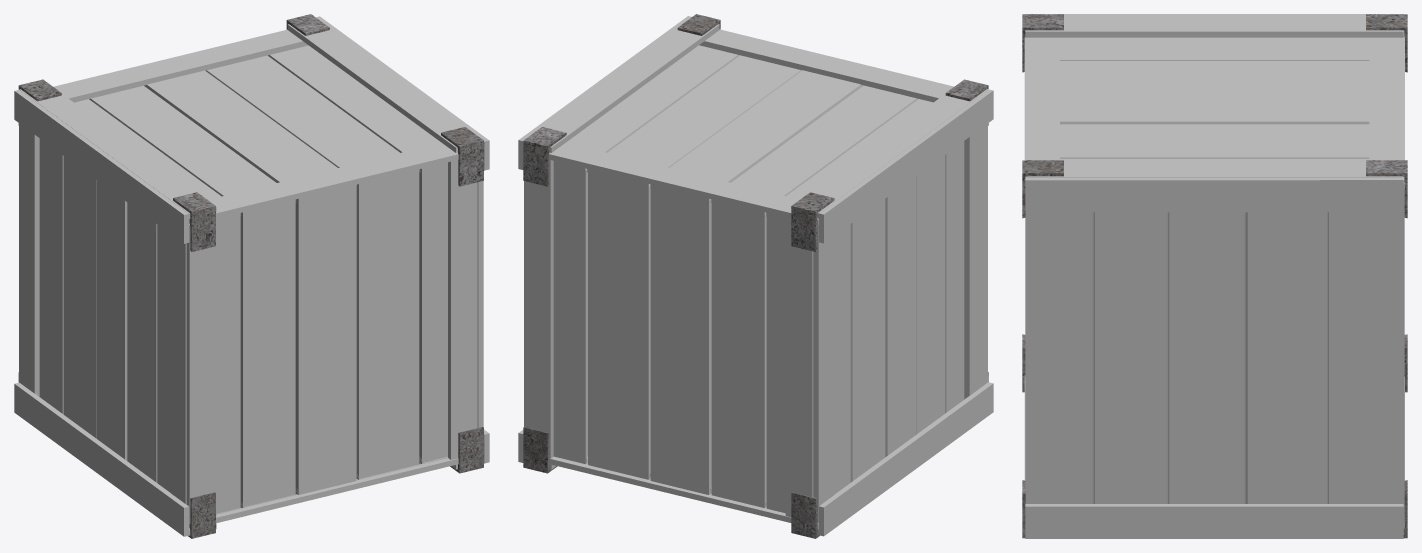
3 views of the same model, side by side, from view 1: azimuth 30°, elevation 25°; view 2: azimuth 150°, elevation 25°; view 3: azimuth 270°, elevation 25° (orthographic). The views are drawn at different scales.
Parts seen in each view (by area): view 1: Ящик; view 2: Ящик; view 3: Ящик.
Part boxes in pixels (bbox=[...]): Ящик: bbox=[14, 14, 489, 538]; Ящик: bbox=[518, 14, 993, 538]; Ящик: bbox=[1022, 14, 1407, 538].
Size of the model in its own units: 73.2 by 74.66 by 76.41.
